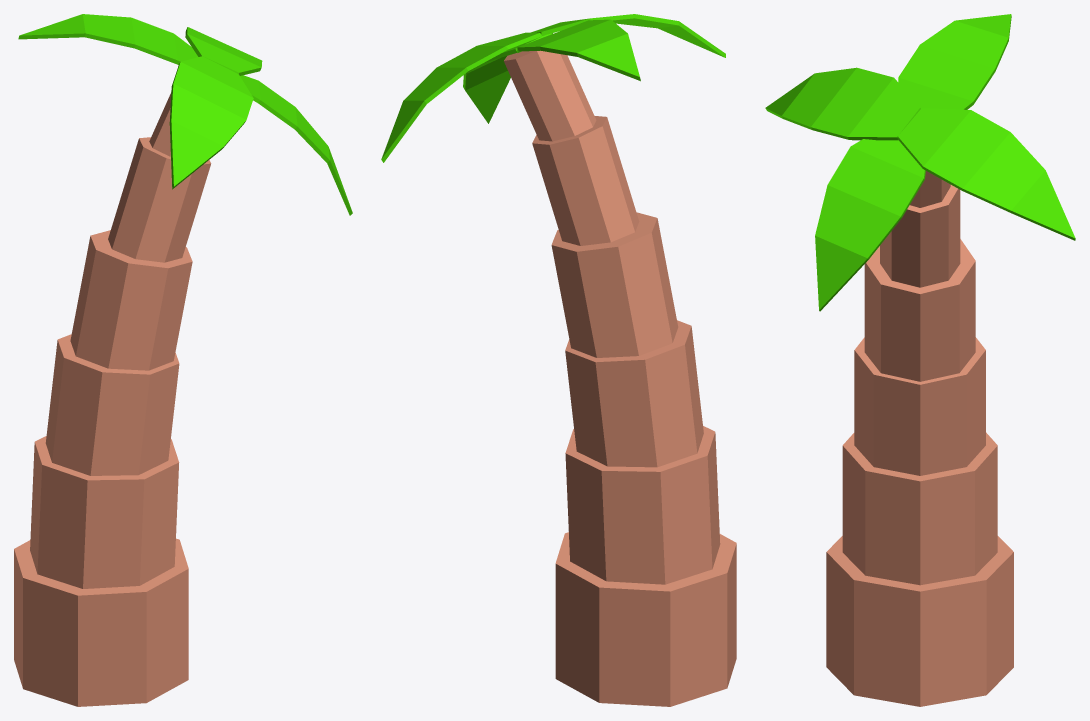
Rendered from palma2.fbx.
3 renders of one model, left to right at view 1: azimuth 30°, elevation 25°; view 2: azimuth 150°, elevation 25°; view 3: azimuth 270°, elevation 25°, orthographic. The views are drawn at different scales.
Visible parts, largest first — view 1: Plane.175; view 2: Plane.175; view 3: Plane.175.
Boxes of the visible parts, left/top/right/bottom form: Plane.175: left=14, top=14, right=352, bottom=706; Plane.175: left=381, top=14, right=736, bottom=706; Plane.175: left=765, top=14, right=1075, bottom=706.
Size of the model in its own units: 406 by 861 by 375.
